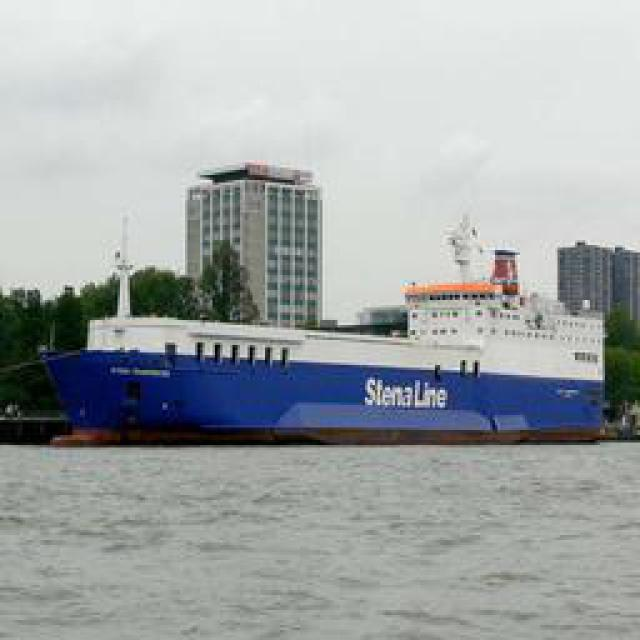Ship: (41, 216, 604, 449)
